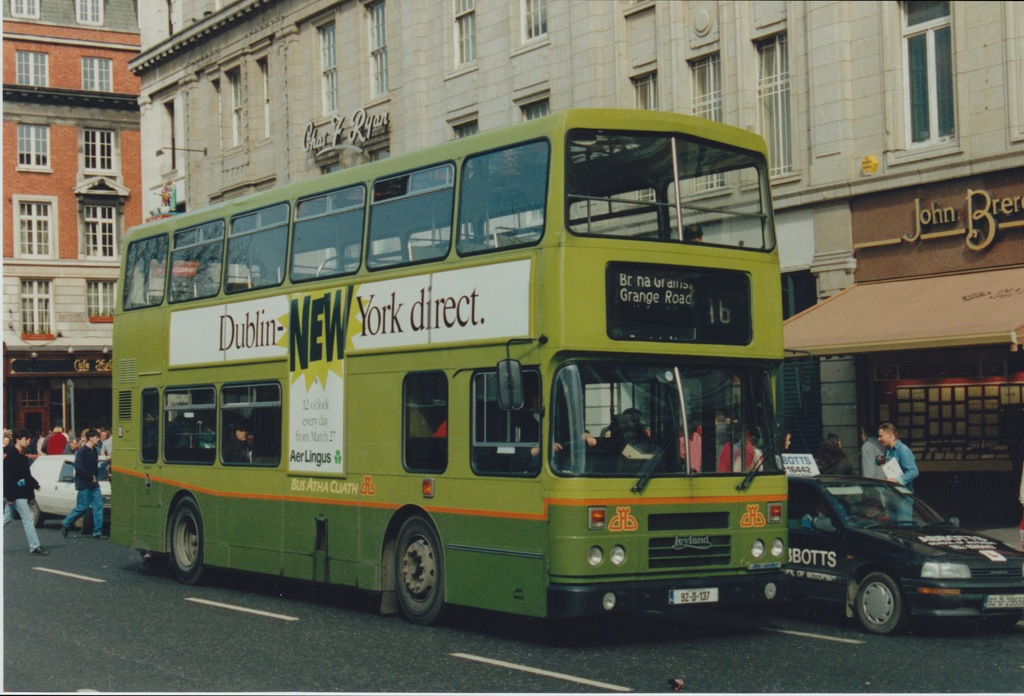Car: (785, 474, 1023, 637), (26, 454, 110, 533)
